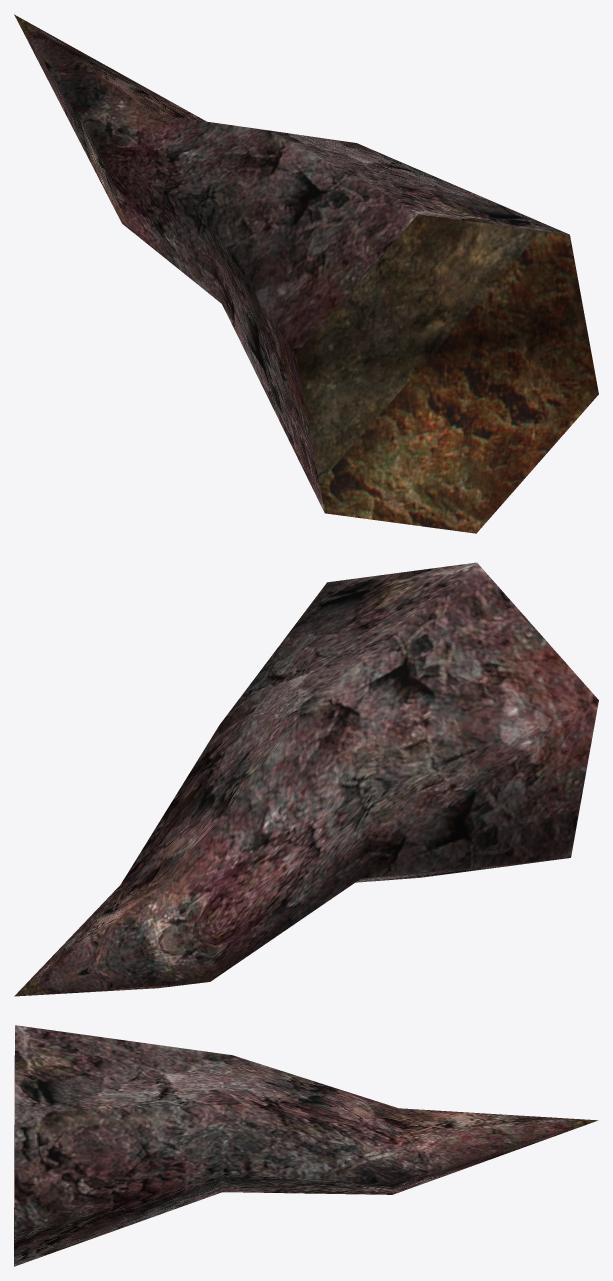
The model's file is stalactite_11.obj.
3 views of the same model, one above another, from view 1: azimuth 30°, elevation 25°; view 2: azimuth 150°, elevation 25°; view 3: azimuth 270°, elevation 25° (orthographic). The views are drawn at different scales.
Visible parts, largest first — view 1: (null); view 2: (null); view 3: (null).
Part boxes in pixels (box(x1,y1,x2,y2)): (null): box(14, 14, 598, 533); (null): box(14, 562, 598, 996); (null): box(14, 1025, 598, 1266).
Size of the model in its own units: 2.14 by 2.25 by 5.35.
